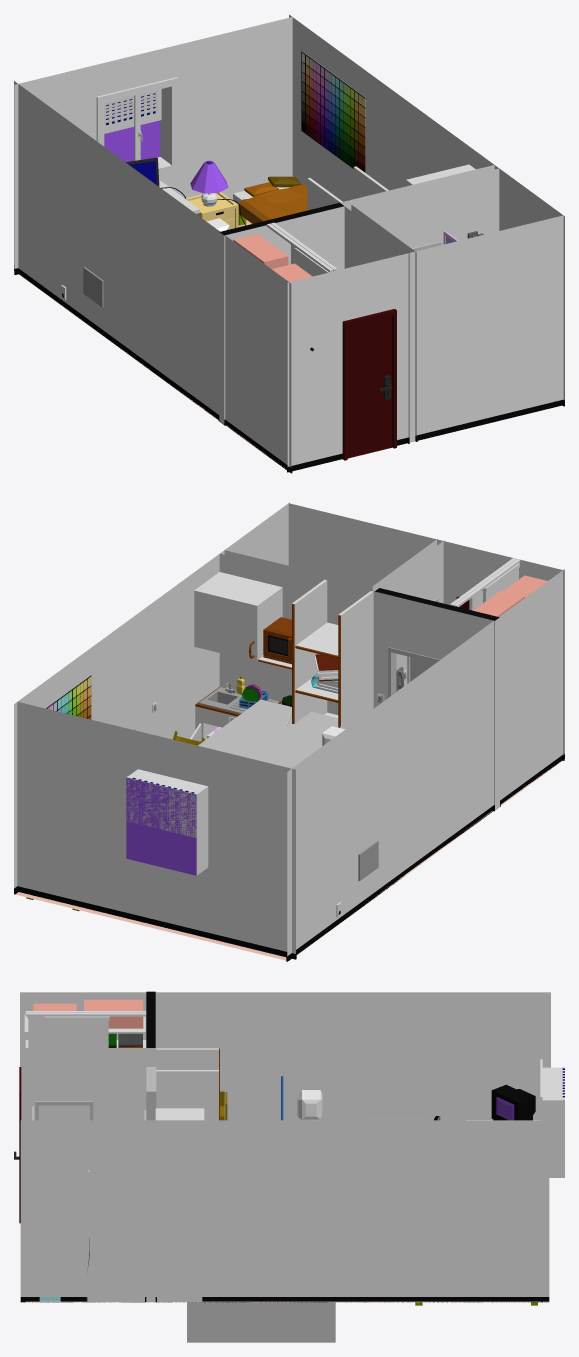
The model's file is sample_room.obj.
3 renders of one model, top to bottom at view 1: azimuth 30°, elevation 25°; view 2: azimuth 150°, elevation 25°; view 3: azimuth 270°, elevation 25°, orthographic. The views are drawn at different scales.
Visible parts, largest first — view 1: Object_103, Object_68, Object_6, Object_60, Object_14, Object_43, Object_44, Object_22; view 2: Object_103, Object_14, Object_18, Cube, Object_60, Object_10, Object_101, Object_58, Object_68, Object_54, Object_22; view 3: Object_103, Object_68, Cube, Object_60, Object_14, Object_16, Object_4, Object_18, Object_101, Object_83.
Boxes of the visible parts, left/top/right/bottom form: Object_103: left=14, top=14, right=564, bottom=473; Object_68: left=301, top=51, right=365, bottom=172; Object_6: left=233, top=176, right=307, bottom=225; Object_60: left=233, top=222, right=337, bottom=351; Object_14: left=307, top=166, right=388, bottom=210; Object_43: left=186, top=192, right=238, bottom=229; Object_44: left=190, top=160, right=228, bottom=193; Object_22: left=83, top=267, right=103, bottom=307; Object_103: left=14, top=502, right=564, bottom=961; Object_14: left=285, top=579, right=373, bottom=729; Object_18: left=194, top=572, right=291, bottom=669; Cube: left=198, top=699, right=338, bottom=768; Object_60: left=450, top=558, right=547, bottom=616; Object_10: left=190, top=682, right=281, bottom=741; Object_101: left=15, top=761, right=561, bottom=961; Object_58: left=263, top=617, right=291, bottom=664; Object_68: left=45, top=675, right=91, bottom=719; Object_54: left=311, top=654, right=338, bottom=693; Object_22: left=358, top=840, right=378, bottom=881; Object_103: left=14, top=991, right=564, bottom=1302; Object_68: left=401, top=1146, right=523, bottom=1222; Cube: left=187, top=1302, right=335, bottom=1342; Object_60: left=24, top=999, right=146, bottom=1120; Object_14: left=156, top=1048, right=219, bottom=1120; Object_16: left=491, top=1084, right=535, bottom=1120; Object_4: left=297, top=1090, right=322, bottom=1120; Object_18: left=155, top=1108, right=204, bottom=1120; Object_101: left=26, top=1301, right=548, bottom=1302; Object_83: left=108, top=1033, right=142, bottom=1047.
Size of the model in its own units: 4.16 by 3.71 by 7.41.
